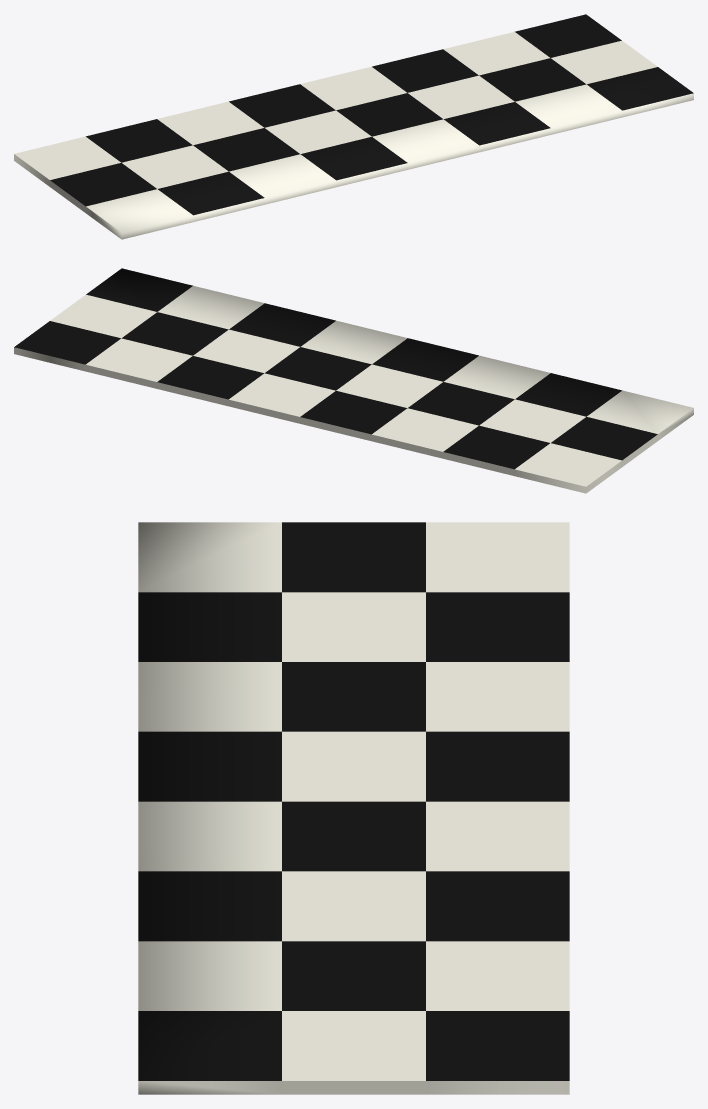
The model's file is Checker_Final.fbx.
3 views of the same model, one above another, from view 1: azimuth 30°, elevation 25°; view 2: azimuth 150°, elevation 25°; view 3: azimuth 270°, elevation 25° (orthographic). The views are drawn at different scales.
Visible parts, largest first — view 1: Platform_Straight.001; view 2: Platform_Straight.001; view 3: Platform_Straight.001.
Boxes of the visible parts, bbox=[...] form: Platform_Straight.001: bbox=[14, 14, 693, 239]; Platform_Straight.001: bbox=[14, 268, 693, 493]; Platform_Straight.001: bbox=[138, 522, 569, 1094].
Bounding box in the file's own units: 8.16 × 0.0935 × 2.66.
